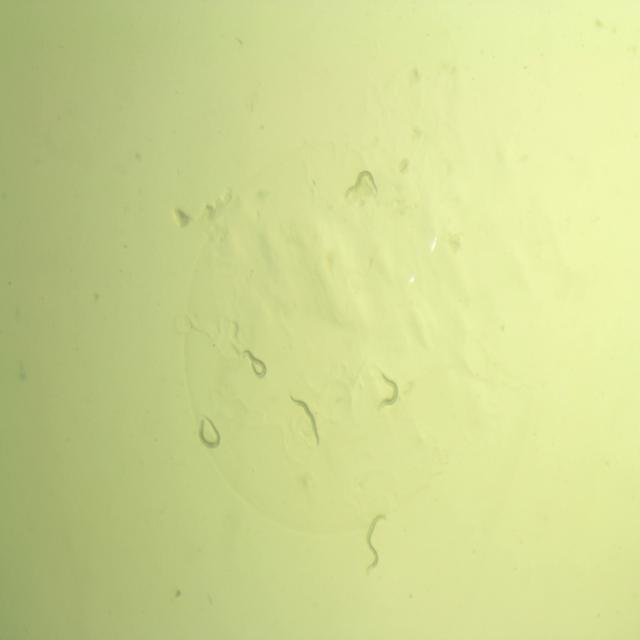worm: (287, 392, 323, 452), (362, 508, 389, 576), (340, 166, 382, 205), (371, 366, 402, 416), (193, 413, 226, 452), (240, 346, 270, 384)
